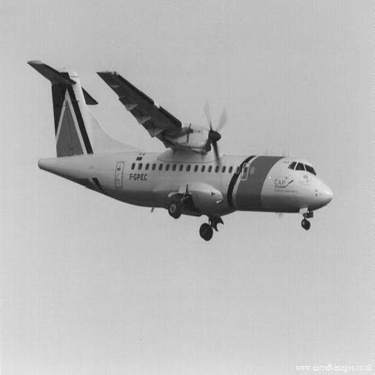airplane: (23, 50, 341, 243)
